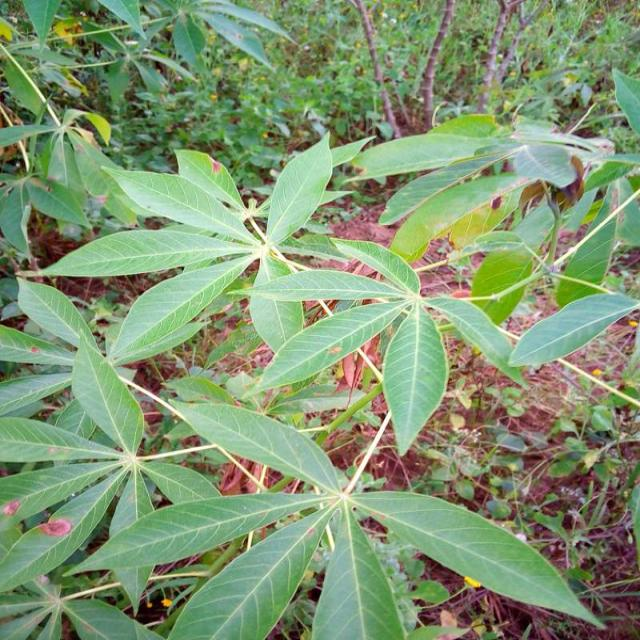cassava leaf: (2, 109, 638, 637), (382, 301, 449, 456)
